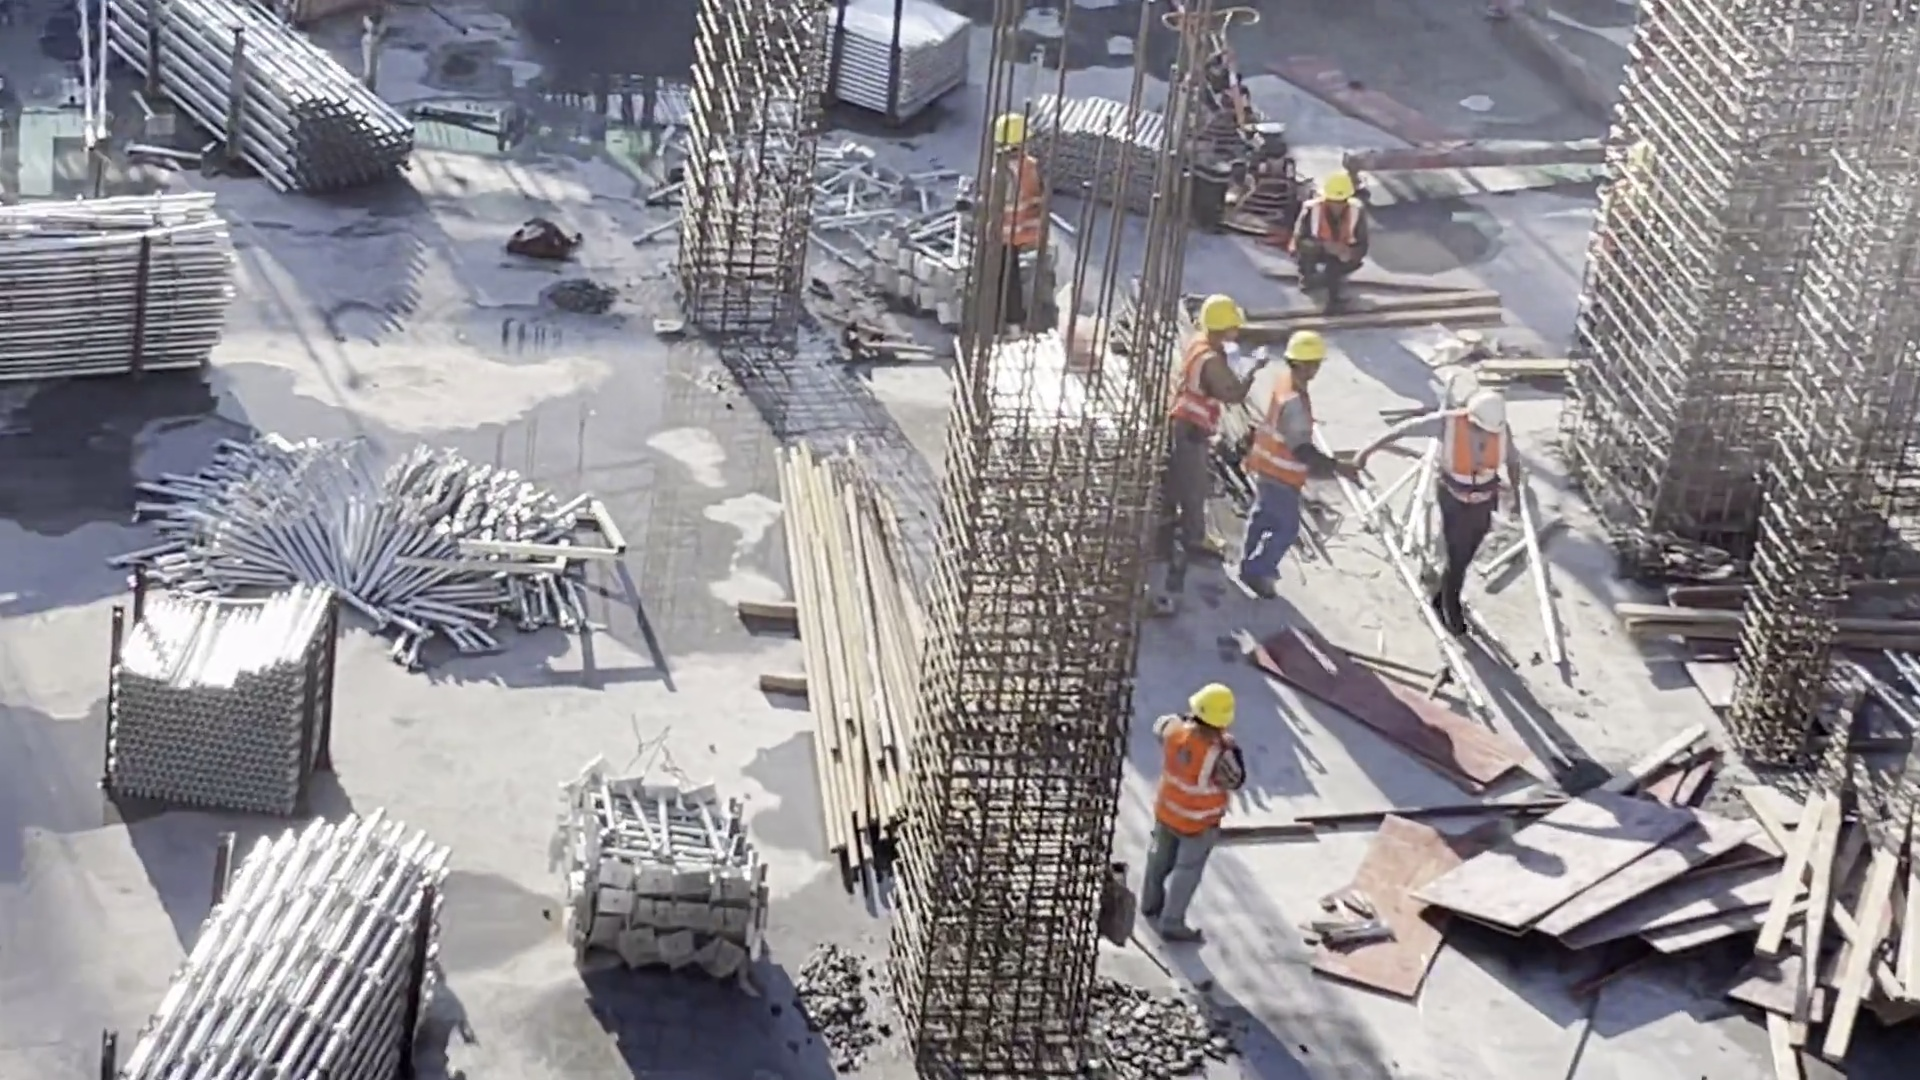board: (1415, 785, 1757, 964)
helmet: (1460, 380, 1517, 435), (991, 104, 1040, 157), (1185, 679, 1238, 724), (1207, 293, 1256, 334), (1274, 328, 1329, 364), (1329, 163, 1354, 200)
person: (1403, 372, 1520, 639), (1252, 319, 1329, 609), (1145, 665, 1223, 948), (1178, 292, 1239, 596), (973, 116, 1060, 316), (1282, 169, 1388, 323)
scaffold: (145, 419, 615, 630), (105, 830, 455, 1080), (78, 580, 354, 802), (120, 1, 426, 200), (1, 196, 247, 381), (559, 746, 754, 974), (1016, 73, 1211, 226), (826, 1, 990, 133)
vest: (1156, 722, 1237, 838), (1433, 417, 1506, 512), (1254, 376, 1312, 480), (993, 160, 1056, 250), (1184, 346, 1230, 442), (1300, 195, 1373, 256)
wood: (1747, 735, 1920, 1065)
